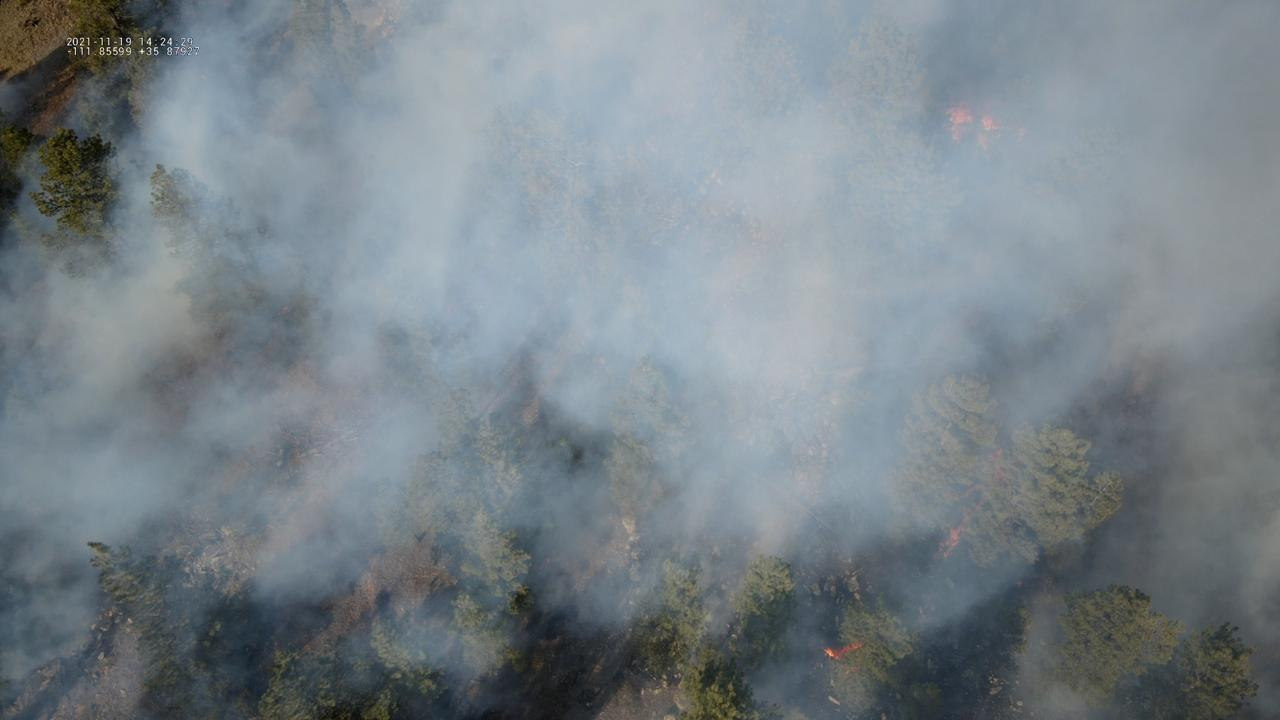fire: (944, 108, 975, 141), (823, 642, 860, 662), (937, 527, 960, 557), (981, 115, 995, 132)
smoke: (0, 0, 1280, 720)
